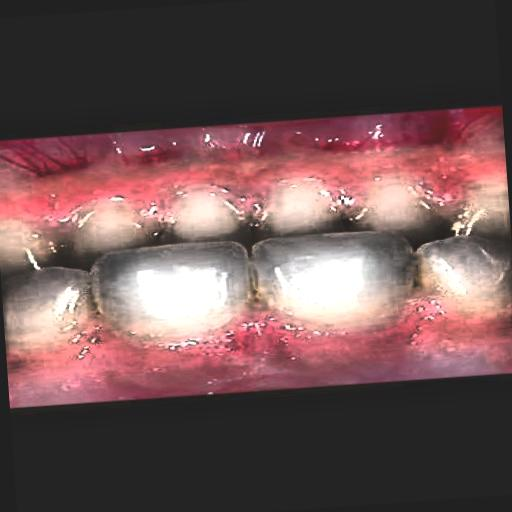Healthy: (22, 142, 509, 352)
